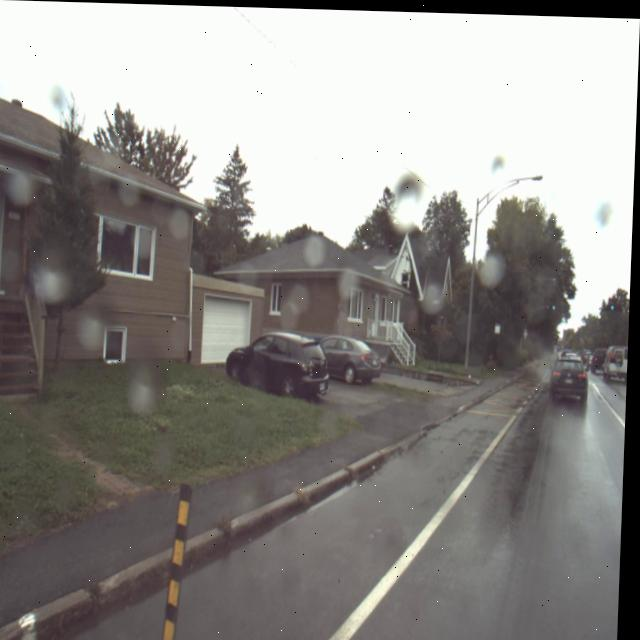car: (227, 330, 334, 395), (325, 333, 386, 380), (551, 348, 591, 405), (605, 341, 630, 380)
trafficLight-Green: (553, 299, 560, 307), (612, 300, 617, 308)
